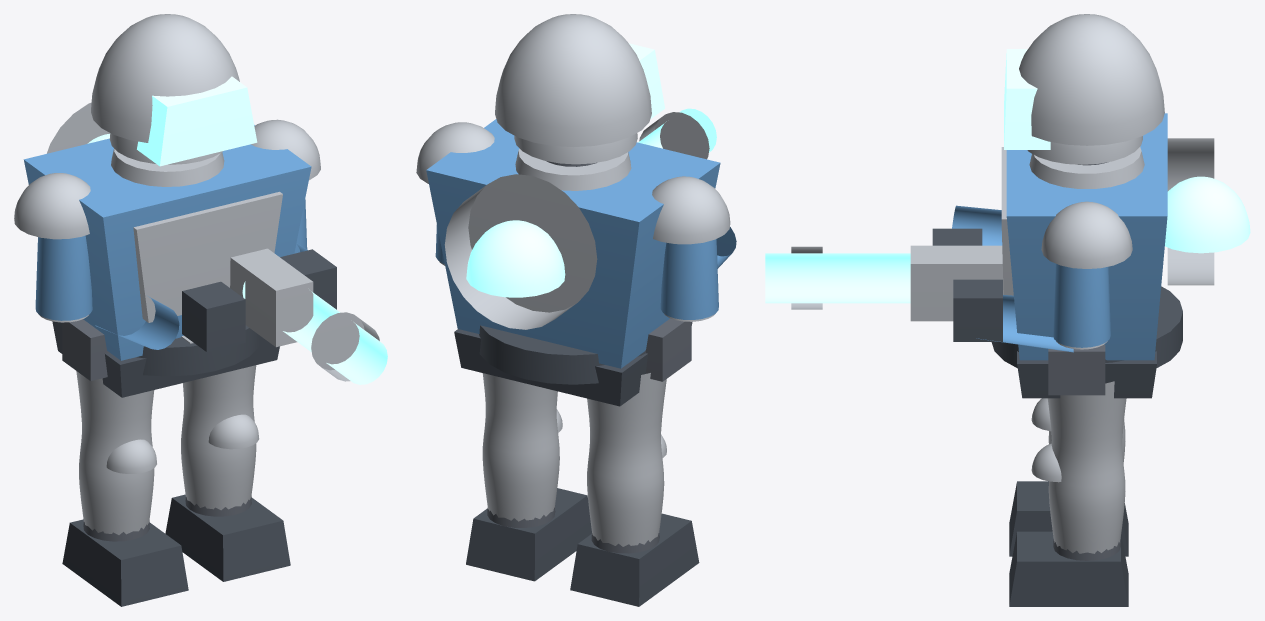
Rendered from cleg.glb.
The picture shows the model from 3 angles, left to right: view 1: azimuth 30°, elevation 25°; view 2: azimuth 150°, elevation 25°; view 3: azimuth 270°, elevation 25°; orthographic projection. The views are drawn at different scales.
Visible parts, largest first — view 1: Hull; view 2: Hull; view 3: Hull.
Boxes of the visible parts, x1,y1,x2,y2 form: Hull: (14,14,387,606); Hull: (416,14,736,606); Hull: (765,14,1250,606).
Size of the model in its own units: 0.6327 by 1.1 by 0.8882.
